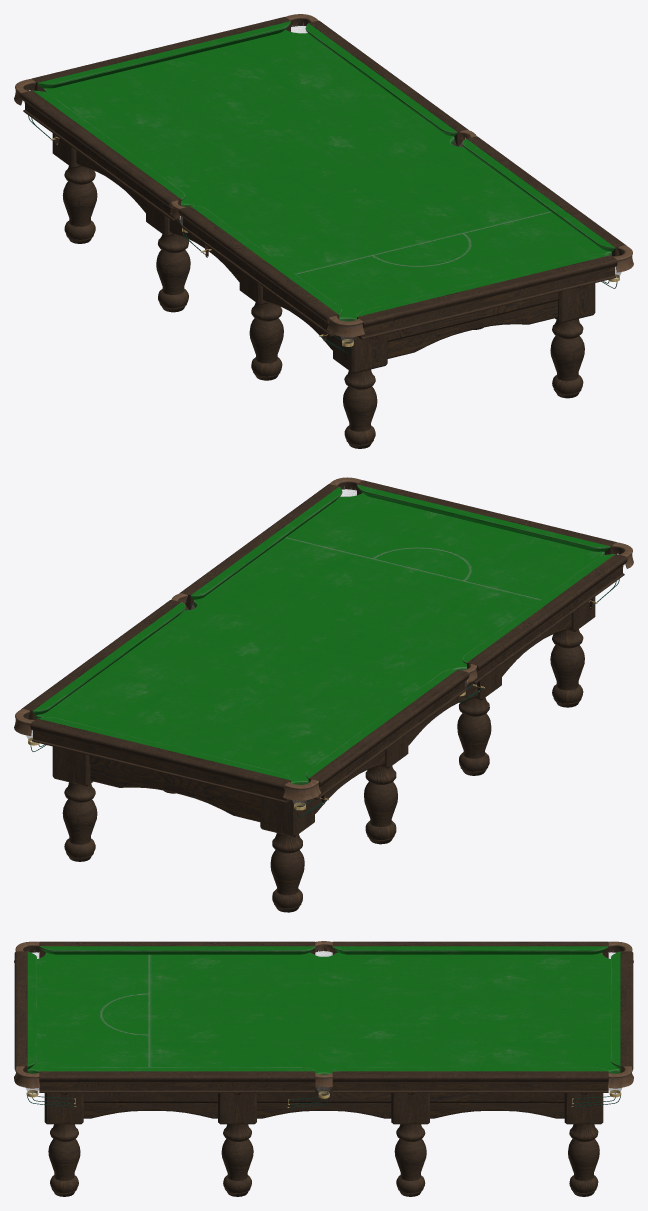
Rendered from snooker-table.glb.
3 views of the same model, one above another, from view 1: azimuth 30°, elevation 25°; view 2: azimuth 150°, elevation 25°; view 3: azimuth 270°, elevation 25° (orthographic). The views are drawn at different scales.
Visible parts, largest first — view 1: Cube.001_51, Cube.005_39, Cylinder.002_33, Cylinder.004_37, Legs.001_44, Legs_32, Legs.002_45, Legs.004_47, Legs.006_49, Cylinder.001_38, Plane.002_40, Curve.006_36; view 2: Cube.001_51, Cube.005_39, Cylinder.002_33, Legs.006_49, Legs.007_50, Legs.004_47, Legs.002_45, Legs_32, Cylinder.004_37, Curve.006_36, Cylinder.001_38, Plane.002_40; view 3: Cube.001_51, Cube.005_39, Cylinder.002_33, Cylinder.001_38, Curve.006_36, Legs.005_48, Legs.001_44, Legs.003_46, Legs.007_50, Plane.002_40, Plane.005_41, Plane.003_43 (+1 smaller).
Boxes of the visible parts, left/top/right/bottom form: Cube.001_51: left=43, top=29, right=611, bottom=321; Cube.005_39: left=20, top=17, right=626, bottom=339; Cylinder.002_33: left=52, top=133, right=595, bottom=373; Cylinder.004_37: left=387, top=301, right=557, bottom=358; Legs.001_44: left=550, top=319, right=584, bottom=398; Legs_32: left=343, top=369, right=377, bottom=448; Legs.002_45: left=249, top=302, right=283, bottom=380; Legs.004_47: left=156, top=234, right=190, bottom=312; Legs.006_49: left=62, top=166, right=97, bottom=243; Cylinder.001_38: left=76, top=150, right=332, bottom=350; Plane.002_40: left=14, top=14, right=633, bottom=337; Curve.006_36: left=176, top=216, right=558, bottom=341; Cube.001_51: left=36, top=493, right=604, bottom=784; Cube.005_39: left=21, top=480, right=627, bottom=803; Cylinder.002_33: left=52, top=597, right=595, bottom=837; Legs.006_49: left=270, top=833, right=304, bottom=912; Legs.007_50: left=62, top=782, right=97, bottom=861; Legs.004_47: left=364, top=766, right=397, bottom=844; Legs.002_45: left=457, top=697, right=491, bottom=775; Legs_32: left=550, top=629, right=584, bottom=707; Cylinder.004_37: left=90, top=765, right=260, bottom=821; Curve.006_36: left=89, top=680, right=471, bottom=806; Cylinder.001_38: left=315, top=614, right=571, bottom=813; Plane.002_40: left=14, top=477, right=633, bottom=800; Cube.001_51: left=27, top=952, right=620, bottom=1074; Cube.005_39: left=14, top=941, right=633, bottom=1092; Cylinder.002_33: left=44, top=1093, right=603, bottom=1124; Cylinder.001_38: left=83, top=1103, right=564, bottom=1118; Curve.006_36: left=83, top=1086, right=564, bottom=1102; Legs.005_48: left=394, top=1124, right=426, bottom=1196; Legs.001_44: left=48, top=1124, right=80, bottom=1196; Legs.003_46: left=221, top=1124, right=253, bottom=1196; Legs.007_50: left=568, top=1124, right=599, bottom=1196; Plane.002_40: left=14, top=941, right=633, bottom=1088; Plane.005_41: left=26, top=950, right=621, bottom=1106; Plane.003_43: left=315, top=941, right=332, bottom=1087.
Size of the model in its own units: 1.94 by 0.9096 by 3.73.
Materials: 8 (7 with a texture image).
